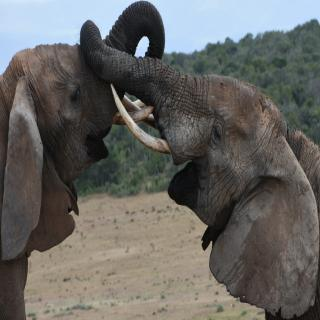Elephant: (88, 0, 320, 320), (1, 0, 169, 320)
